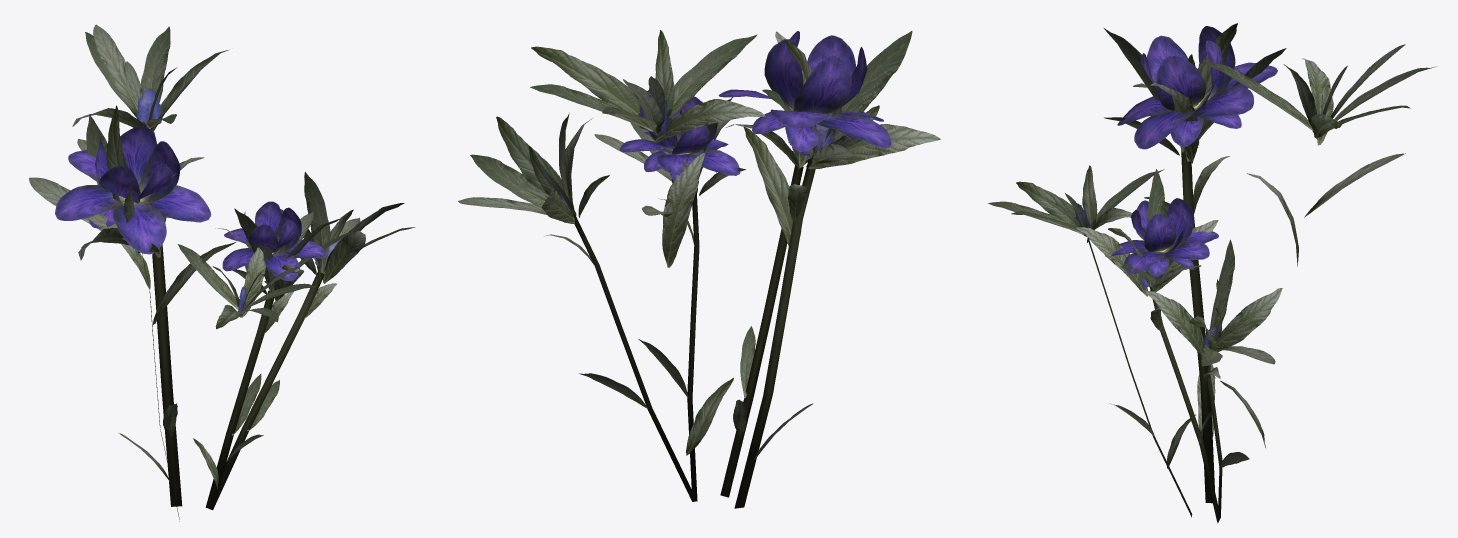
File: leafplant12_lod0.fbx
The picture shows the model from 3 angles, left to right: view 1: azimuth 30°, elevation 25°; view 2: azimuth 150°, elevation 25°; view 3: azimuth 270°, elevation 25°; orthographic projection. The views are drawn at different scales.
Visible parts, largest first — view 1: Mesh Object; view 2: Mesh Object; view 3: Mesh Object.
Part boxes in pixels (x1=…): Mesh Object: x1=29, y1=24, x2=415, y2=521; Mesh Object: x1=458, y1=30, x2=940, y2=508; Mesh Object: x1=988, y1=23, x2=1436, y2=523.
Bounding box in the file's own units: 1.26 × 1.38 × 1.22.
